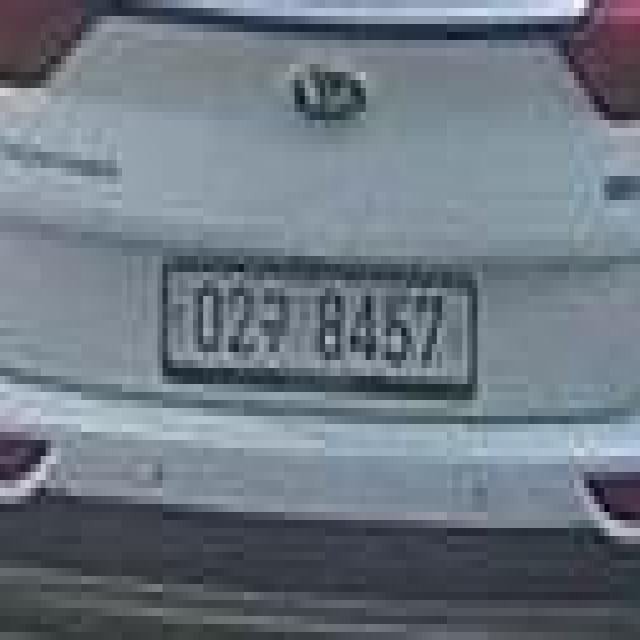illegal_plate: (155, 251, 482, 401)
